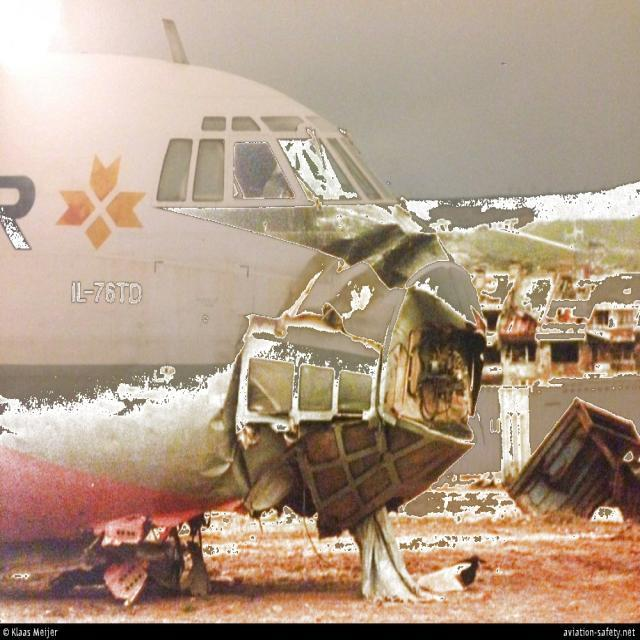dent: (198, 458, 232, 481), (207, 407, 232, 434)
